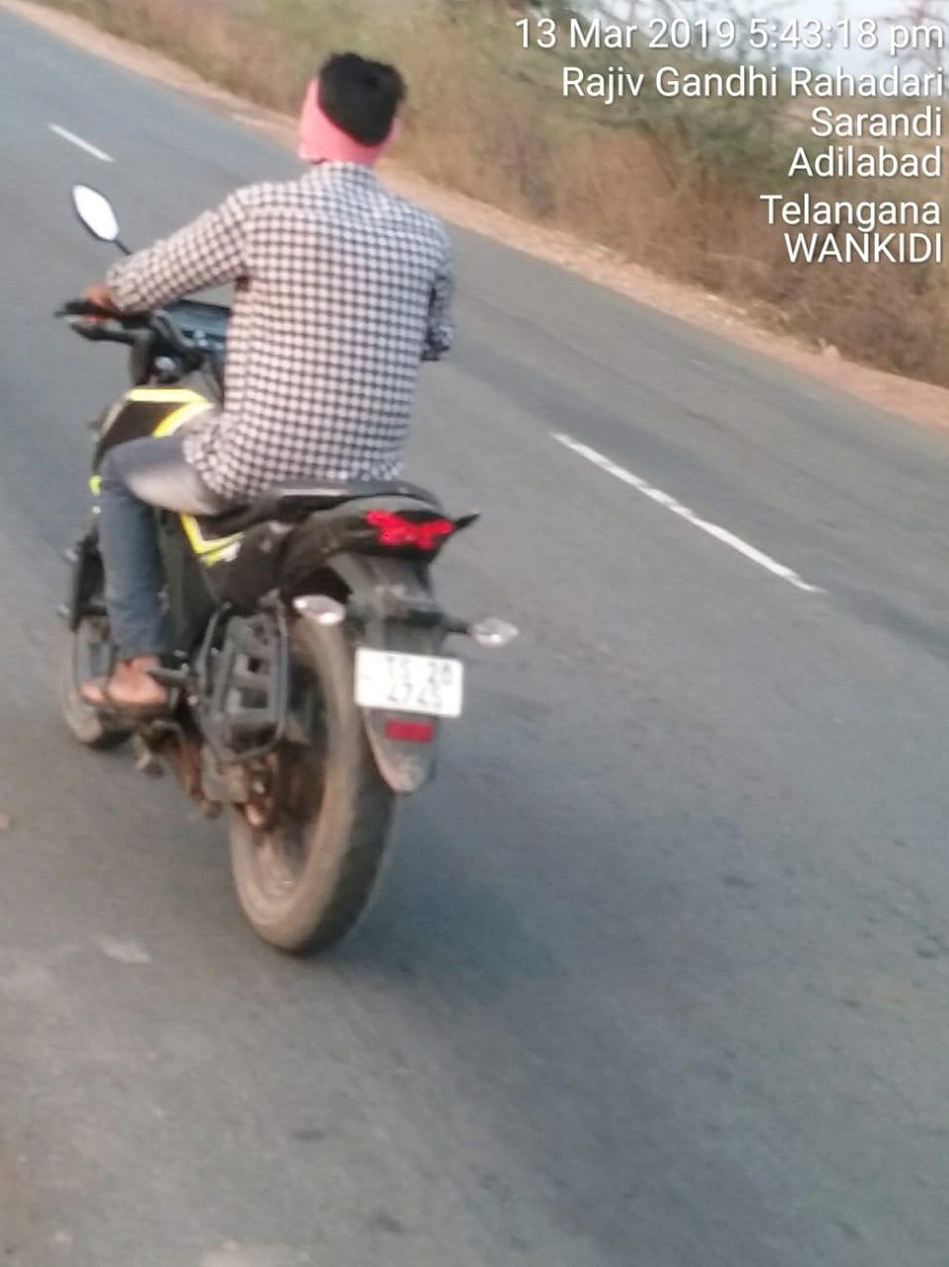plate: (343, 638, 480, 724)
